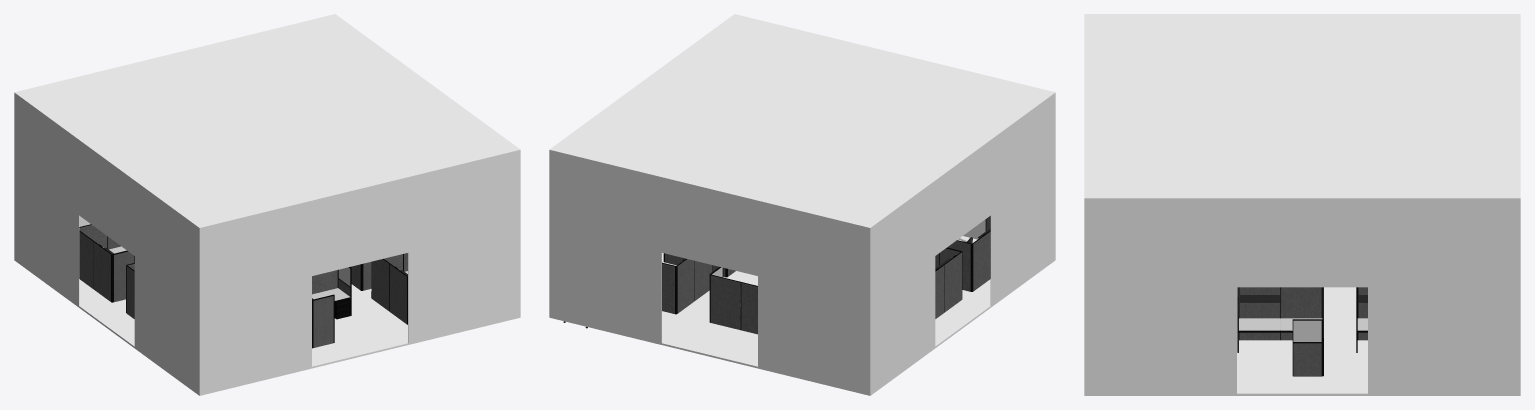
Rendered from Level1_Room1.glb.
3 renders of one model, left to right at view 1: azimuth 30°, elevation 25°; view 2: azimuth 150°, elevation 25°; view 3: azimuth 270°, elevation 25°, orthographic. The views are drawn at different scales.
Parts seen in each view (by area): view 1: Cube copy copy copy (×3), Cube copy copy (×3), Cube copy, Cube, Wall2_Cloth_0 (×2), CubicleWall_Cloth_0 (×2), Wall3_Cloth_0 (×2); view 2: Cube copy copy copy (×2), Cube copy copy copy copy (×2), Cube copy copy (×2), Cube copy, Cube, Wall2_Cloth_0 (×3), Wall3_Cloth_0 (×3); view 3: Cube copy copy copy (×3), Cube copy copy, Cube, Wall2_Cloth_0, Wall4_Cloth_0, Wall4_Window_0, CubicTables_TableTop_0.
Part boxes in pixels (bbox=[...]): Cube copy copy copy (×3): bbox=[15, 14, 520, 395]; Cube copy copy (×3): bbox=[14, 93, 520, 395]; Cube copy: bbox=[14, 92, 199, 303]; Cube: bbox=[14, 259, 408, 395]; Wall2_Cloth_0 (×2): bbox=[79, 231, 406, 324]; CubicleWall_Cloth_0 (×2): bbox=[114, 251, 333, 347]; Wall3_Cloth_0 (×2): bbox=[79, 225, 337, 294]; Cube copy copy copy (×2): bbox=[549, 14, 1054, 303]; Cube copy copy copy copy (×2): bbox=[549, 150, 870, 395]; Cube copy copy (×2): bbox=[870, 93, 1055, 394]; Cube copy: bbox=[870, 92, 1055, 303]; Cube: bbox=[661, 236, 1055, 395]; Wall2_Cloth_0 (×3): bbox=[677, 231, 990, 318]; Wall3_Cloth_0 (×3): bbox=[662, 241, 970, 334]; Cube copy copy copy (×3): bbox=[1084, 14, 1520, 395]; Cube copy copy: bbox=[1084, 198, 1520, 287]; Cube: bbox=[1237, 287, 1367, 395]; Wall2_Cloth_0: bbox=[1239, 287, 1321, 340]; Wall4_Cloth_0: bbox=[1293, 343, 1321, 376]; Wall4_Window_0: bbox=[1293, 320, 1321, 341]; CubicTables_TableTop_0: bbox=[1239, 318, 1280, 330].
Size of what is drawn, in the model's own units: 10 by 5.15 by 10.01.
Materials: 36 (14 with a texture image).
